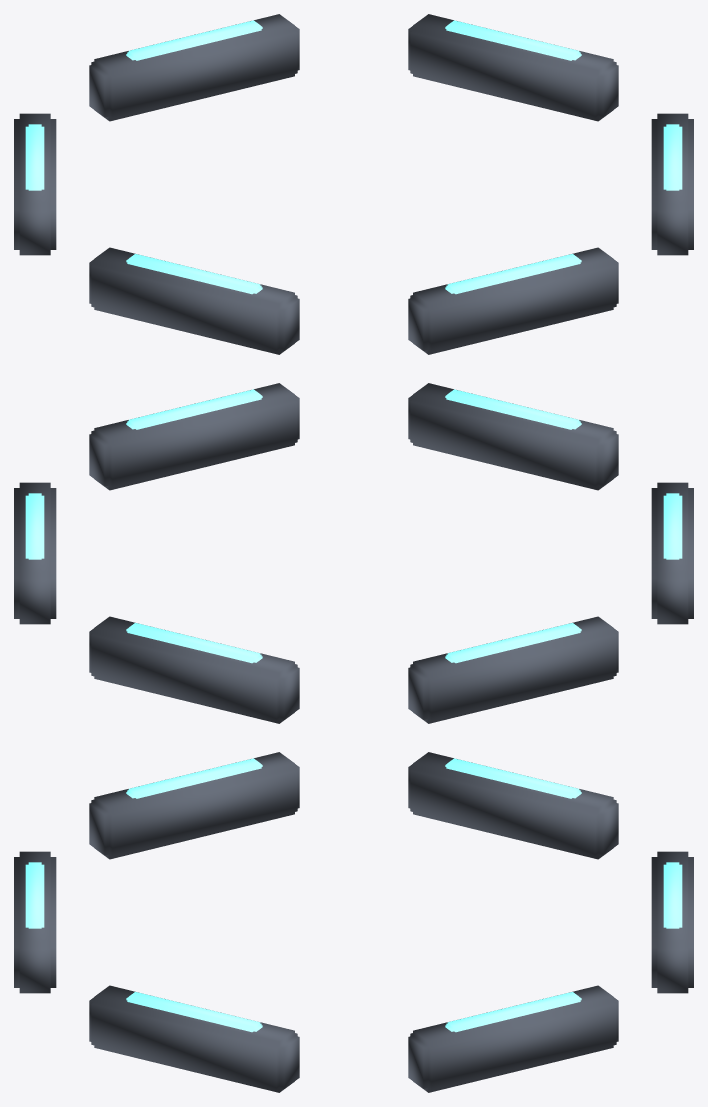
Rendered from shield_emitter.glb.
The picture shows the model from 3 angles, top to bottom: view 1: azimuth 30°, elevation 25°; view 2: azimuth 150°, elevation 25°; view 3: azimuth 270°, elevation 25°; orthographic projection.
Visible parts, largest first — view 1: shield_emitter; view 2: shield_emitter; view 3: shield_emitter.
Boxes of the visible parts, bbox=[...] form: shield_emitter: bbox=[14, 14, 693, 354]; shield_emitter: bbox=[14, 383, 693, 723]; shield_emitter: bbox=[14, 752, 693, 1092].
Size of the model in its own units: 0.7419 by 0.07 by 0.725.
